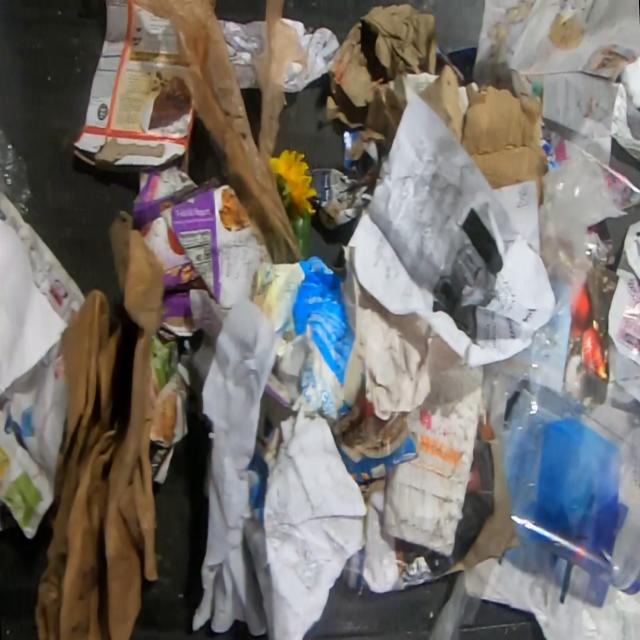cardboard: (32, 208, 166, 640), (326, 3, 548, 215), (132, 164, 271, 339), (72, 0, 194, 174), (383, 364, 486, 556), (250, 256, 362, 420), (262, 372, 292, 406)
soft_plastic: (125, 0, 308, 259), (489, 151, 626, 440), (499, 370, 640, 595), (0, 122, 34, 218)
